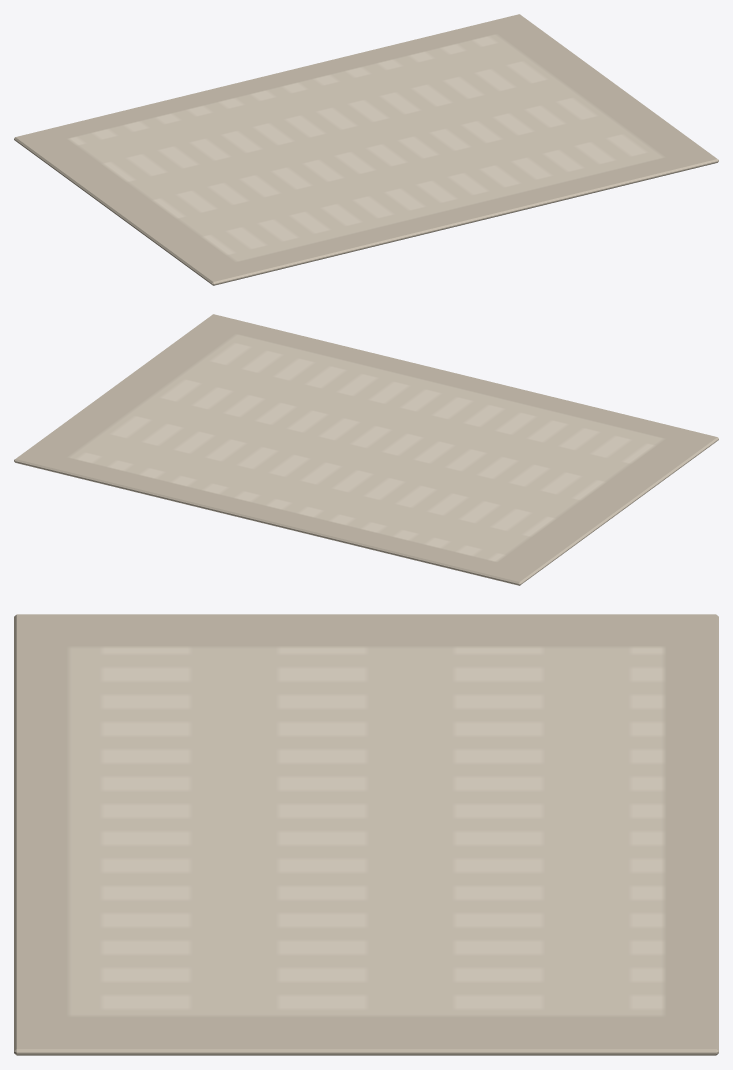
The model's file is minimalist_carpet.obj.
3 renders of one model, top to bottom at view 1: azimuth 30°, elevation 25°; view 2: azimuth 150°, elevation 25°; view 3: azimuth 270°, elevation 25°, orthographic. The views are drawn at different scales.
Parts seen in each view (by area): view 1: MinimalistCarpet; view 2: MinimalistCarpet; view 3: MinimalistCarpet.
Boxes of the visible parts, x1,y1,x2,y2 form: MinimalistCarpet: [14, 14, 718, 285]; MinimalistCarpet: [14, 314, 718, 585]; MinimalistCarpet: [14, 614, 718, 1055].
Bounding box in the file's own units: 2.2 × 0.016 × 1.5.
Materials: 1 (1 with a texture image).
